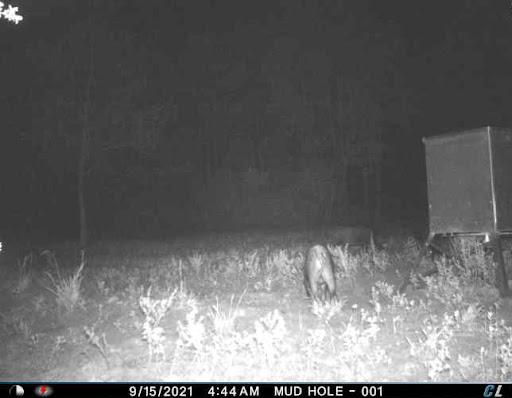Hog: (318, 216, 391, 265), (298, 240, 341, 306)
